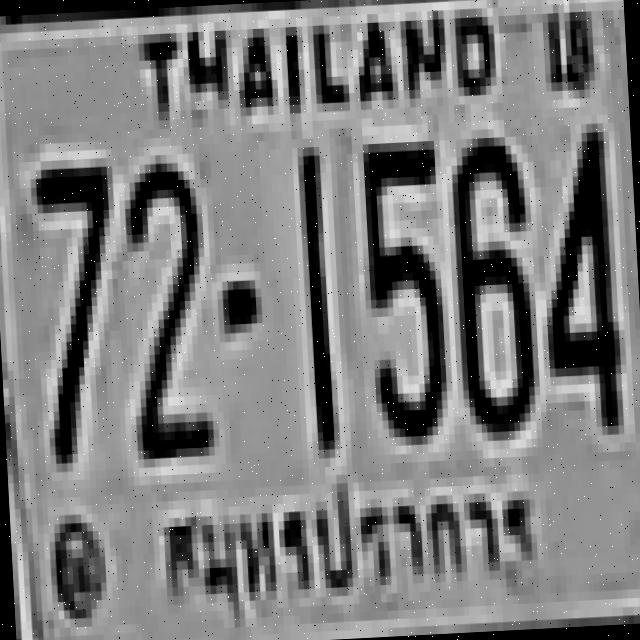1: (294, 143, 332, 446)
2: (117, 153, 209, 451)
4: (532, 119, 618, 425)
5: (357, 132, 444, 438)
6: (447, 128, 534, 434)
7: (30, 158, 116, 456), (32, 158, 114, 370)
SamutPrakan: (148, 459, 542, 636)
